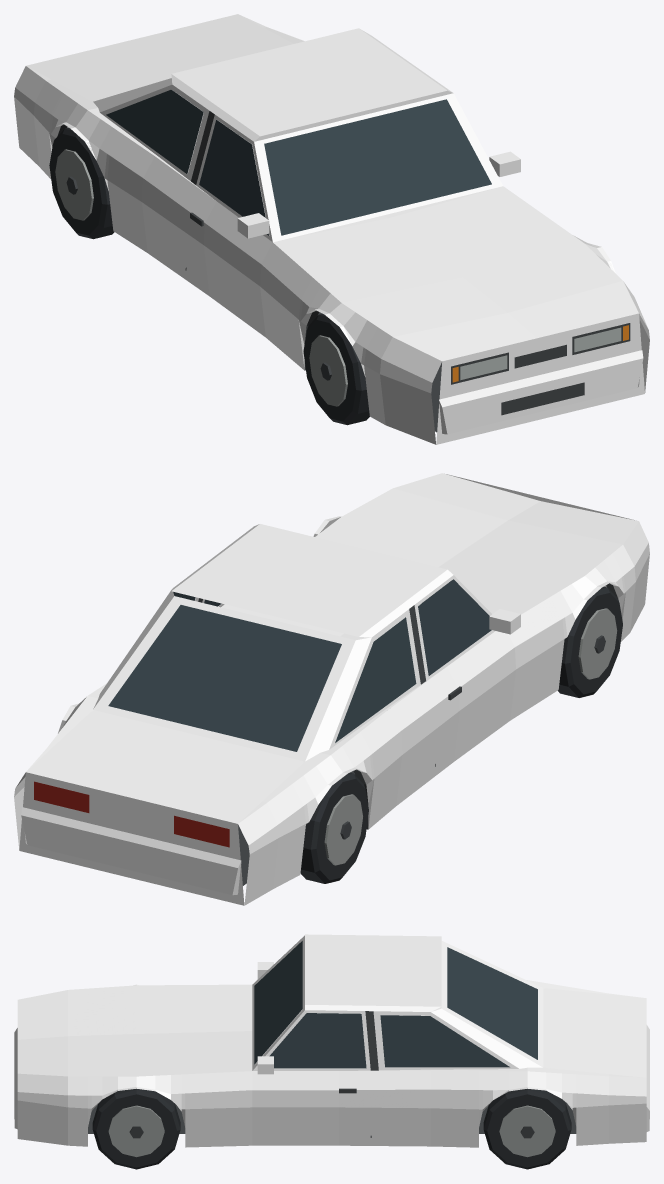
The model's file is ashby_tailwind.glb.
3 renders of one model, top to bottom at view 1: azimuth 30°, elevation 25°; view 2: azimuth 150°, elevation 25°; view 3: azimuth 270°, elevation 25°, orthographic. The views are drawn at different scales.
Parts seen in each view (by area): view 1: ashby_tailwind; view 2: ashby_tailwind; view 3: ashby_tailwind.
Part boxes in pixels (box(x1,y1,x2,y2)): ashby_tailwind: box(14, 14, 649, 444); ashby_tailwind: box(14, 473, 649, 905); ashby_tailwind: box(14, 934, 649, 1169).
Size of the model in its own units: 1.82 by 1.23 by 4.7.
8 materials, 1 textured.
